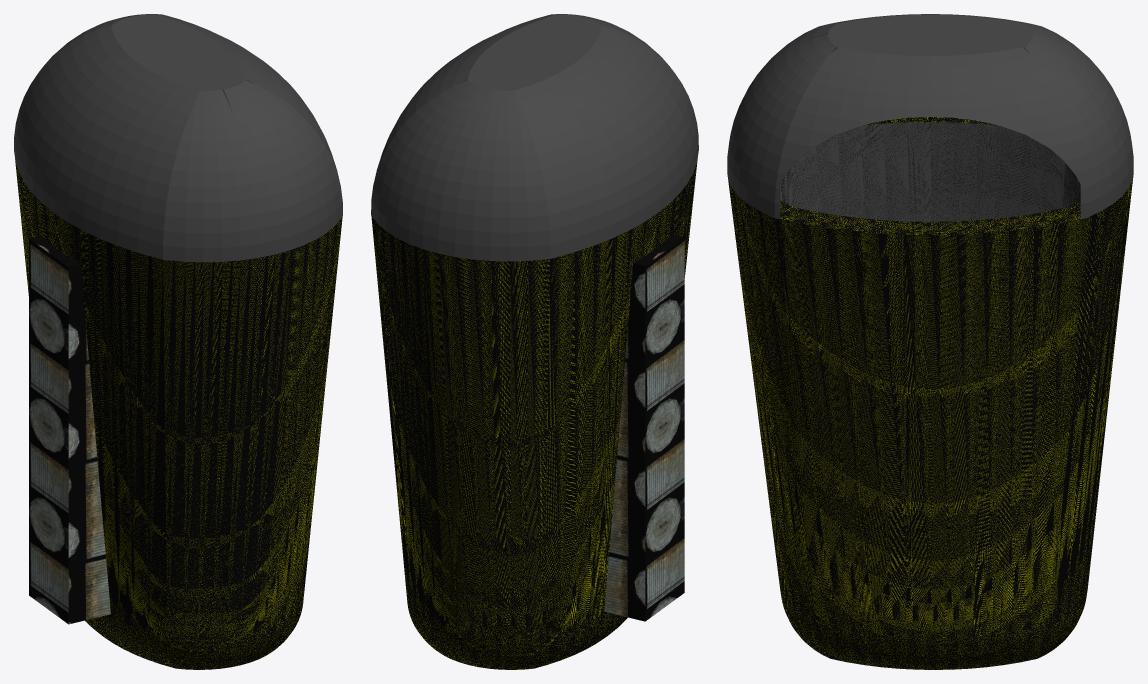
3 views of the same model, side by side, from view 1: azimuth 30°, elevation 25°; view 2: azimuth 150°, elevation 25°; view 3: azimuth 270°, elevation 25° (orthographic). The views are drawn at different scales.
Visible parts, largest first — view 1: mesh3_mesh3-geometry, mesh4_mesh4-geometry, mesh1_mesh1-geometry; view 2: mesh3_mesh3-geometry, mesh4_mesh4-geometry, mesh1_mesh1-geometry; view 3: mesh3_mesh3-geometry, mesh4_mesh4-geometry.
Part boxes in pixels (bbox=[...]): mesh3_mesh3-geometry: bbox=[15, 158, 342, 669]; mesh4_mesh4-geometry: bbox=[14, 14, 342, 262]; mesh1_mesh1-geometry: bbox=[29, 235, 110, 624]; mesh3_mesh3-geometry: bbox=[371, 157, 697, 669]; mesh4_mesh4-geometry: bbox=[371, 14, 698, 261]; mesh1_mesh1-geometry: bbox=[604, 234, 684, 621]; mesh3_mesh3-geometry: bbox=[727, 117, 1133, 669]; mesh4_mesh4-geometry: bbox=[727, 14, 1133, 218].
Size of the model in its own units: 0.3688 by 0.7905 by 0.489.
